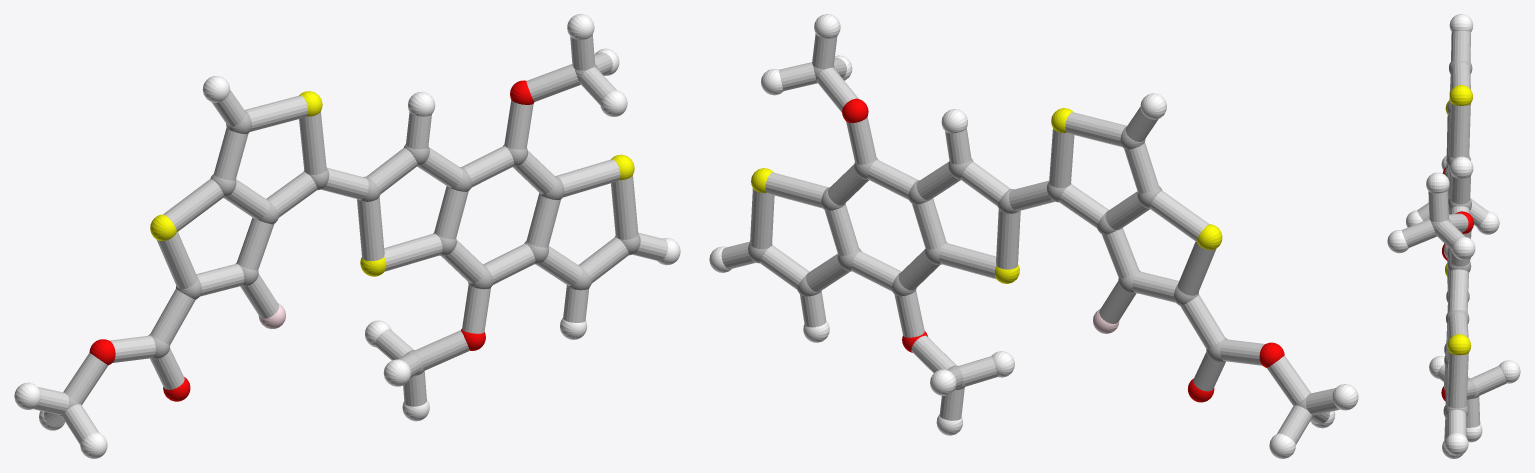
File: color.glb
The picture shows the model from 3 angles, left to right: view 1: azimuth 30°, elevation 25°; view 2: azimuth 150°, elevation 25°; view 3: azimuth 270°, elevation 25°; orthographic projection. The views are drawn at different scales.
Parts seen in each view (by area): view 1: grp15205, grp8689, grp1, grp7241, grp13395; view 2: grp15205, grp8689, grp1, grp7241, grp13395; view 3: grp15205, grp8689, grp1, grp7241, grp13395.
Boxes of the visible parts, x1,y1,x2,y2 form: grp15205: (33, 34, 667, 444); grp8689: (14, 14, 680, 458); grp1: (59, 63, 640, 417); grp7241: (150, 91, 634, 276); grp13395: (89, 80, 534, 401); grp15205: (721, 34, 1339, 444); grp8689: (709, 14, 1358, 458); grp1: (748, 66, 1315, 417); grp7241: (751, 108, 1222, 283); grp13395: (842, 98, 1284, 402); grp15205: (1401, 31, 1506, 442); grp8689: (1387, 14, 1520, 458); grp1: (1431, 60, 1479, 418); grp7241: (1445, 85, 1472, 355); grp13395: (1441, 167, 1473, 401).
Bounding box in the file's own units: 16.78 × 9.58 × 3.39.
